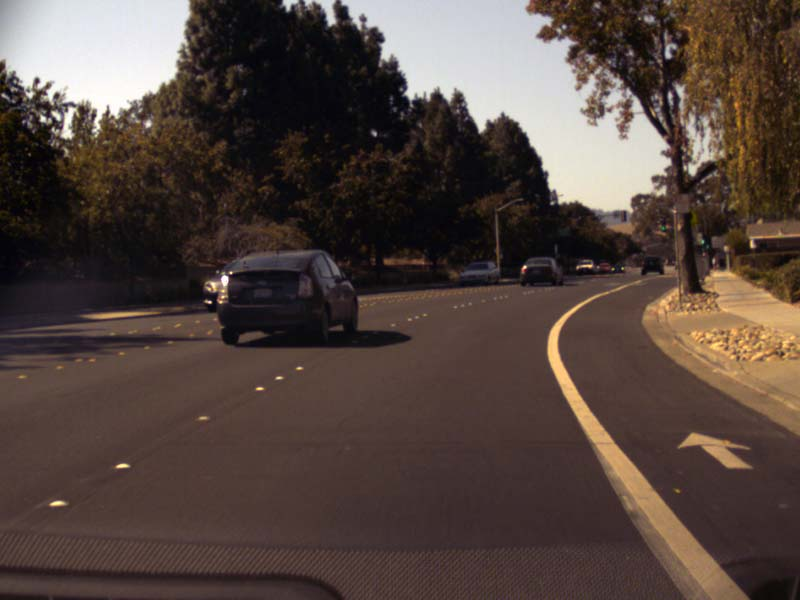Green: (660, 220, 665, 231), (700, 235, 704, 244), (705, 243, 709, 249)
